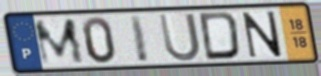0: (81, 14, 119, 66)
D: (197, 10, 242, 62)
I: (127, 13, 151, 65)
M: (31, 16, 88, 67)
N: (240, 10, 284, 60)
U: (156, 12, 203, 64)
